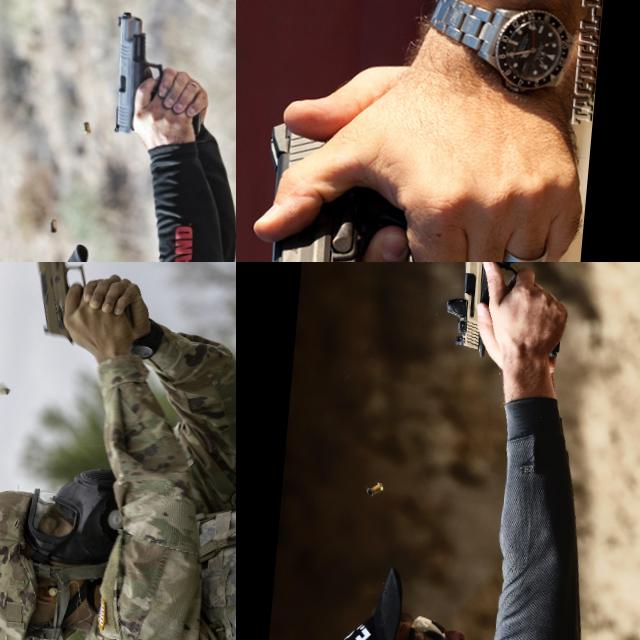handgun: (238, 115, 434, 262), (104, 6, 170, 138), (441, 262, 527, 361), (17, 262, 94, 348)
